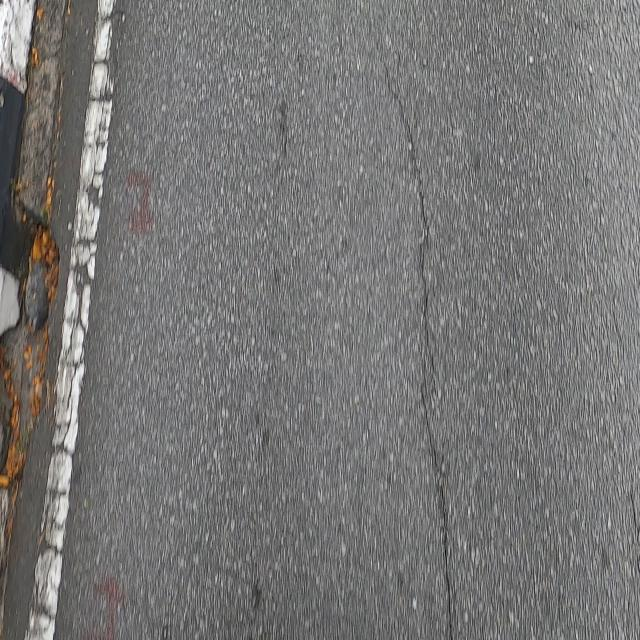Retak-Memanjang: (379, 57, 438, 378), (417, 389, 455, 640)
